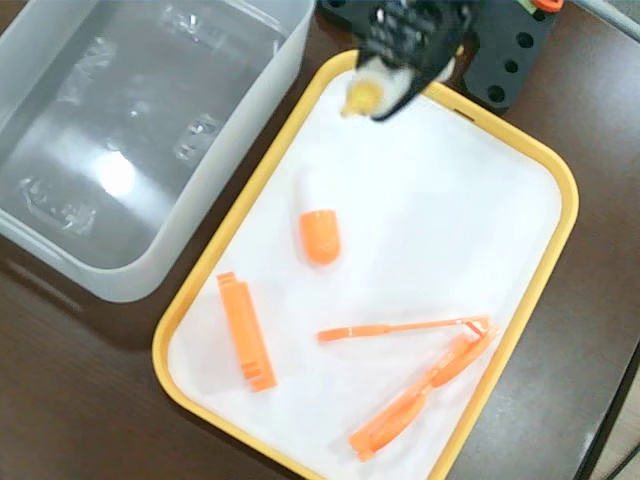pill: (291, 164, 343, 267)
